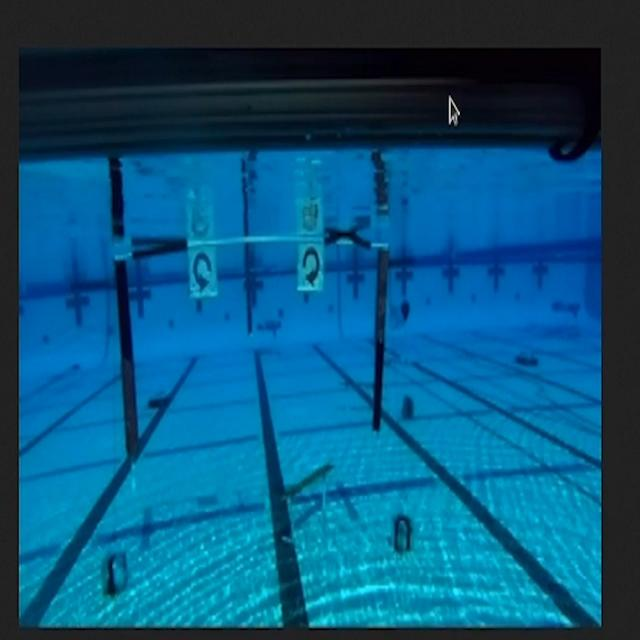Gate: (108, 233, 395, 472)
